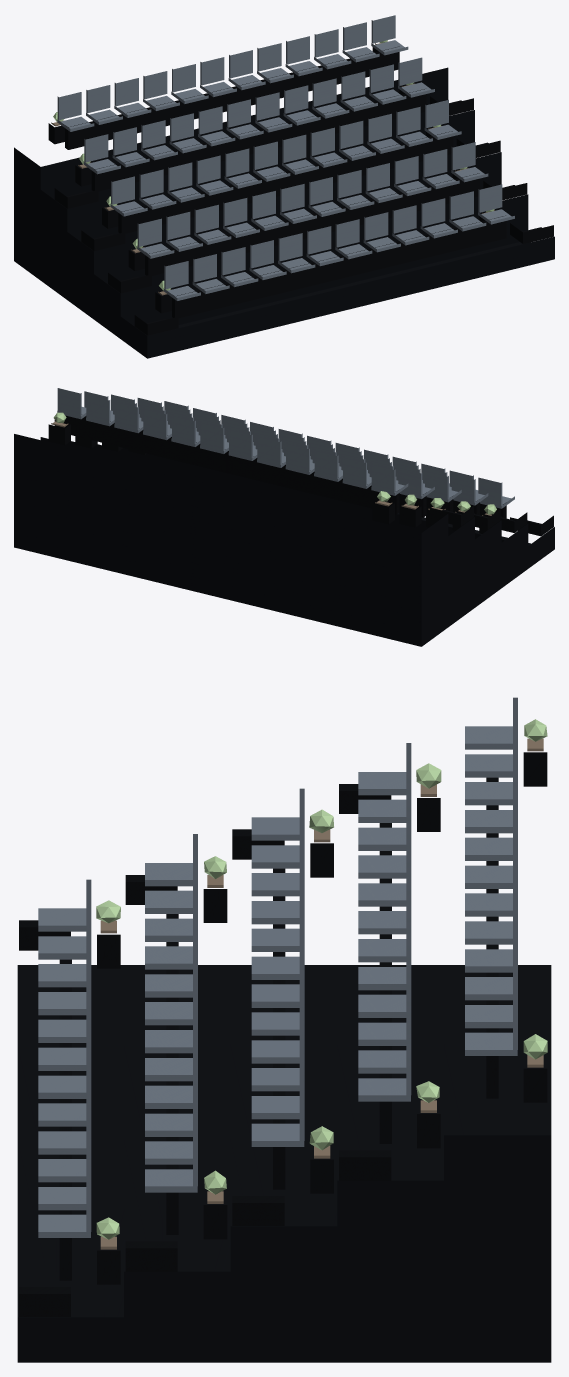
3 views of the same model, one above another, from view 1: azimuth 30°, elevation 25°; view 2: azimuth 150°, elevation 25°; view 3: azimuth 270°, elevation 25° (orthographic). The views are drawn at different scales.
Visible parts, largest first — view 1: Tier_Concrete, Seat_Backs, Seat_Beams, Seat_Pans, Aisle_Steps, Planter_Trough; view 2: Tier_Concrete, Seat_Backs, Seat_Beams, Seat_Pans, Planter_Trough, Aisle_Steps, Foliage; view 3: Tier_Concrete, Seat_Pans, Seat_Backs, Aisle_Steps, Planter_Trough, Seat_Beams, Foliage, Planter_Soil.
Part boxes in pixels (bbox=[...]): Tier_Concrete: bbox=[14, 67, 554, 358]; Seat_Backs: bbox=[57, 15, 502, 289]; Seat_Beams: bbox=[65, 46, 506, 318]; Seat_Pans: bbox=[57, 40, 514, 300]; Aisle_Steps: bbox=[54, 96, 553, 335]; Planter_Trough: bbox=[48, 47, 484, 313]; Tier_Concrete: bbox=[14, 434, 554, 646]; Seat_Backs: bbox=[57, 388, 502, 505]; Seat_Beams: bbox=[65, 415, 506, 518]; Seat_Pans: bbox=[57, 407, 514, 508]; Planter_Trough: bbox=[48, 424, 501, 533]; Aisle_Steps: bbox=[54, 420, 553, 536]; Foliage: bbox=[53, 412, 496, 514]; Tier_Concrete: bbox=[17, 965, 551, 1362]; Seat_Pans: bbox=[38, 726, 517, 1237]; Seat_Backs: bbox=[86, 697, 517, 1231]; Aisle_Steps: bbox=[19, 784, 391, 1316]; Planter_Trough: bbox=[97, 752, 547, 1284]; Seat_Beams: bbox=[59, 777, 498, 1280]; Foliage: bbox=[96, 719, 547, 1239]; Planter_Soil: bbox=[100, 738, 543, 1249].
Size of the model in its own units: 7.5 by 2.85 by 4.25.
5 materials, 3 textured.
